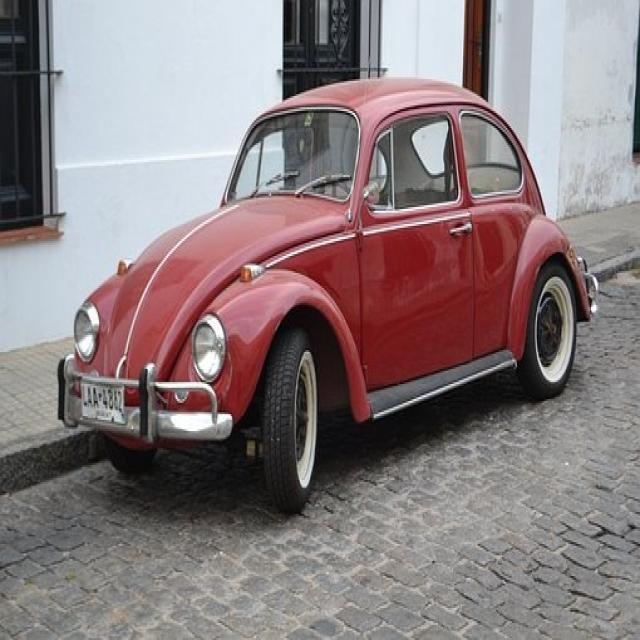cars: (49, 84, 594, 498)
